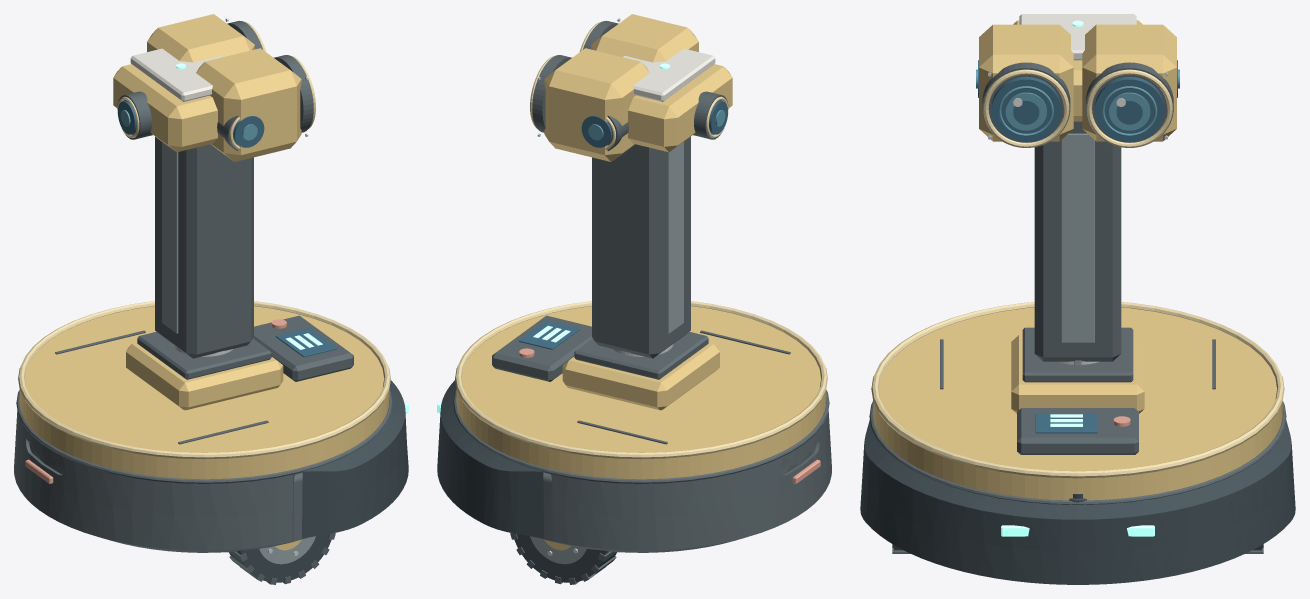
File: create3-rs01.glb
3 views of the same model, side by side, from view 1: azimuth 30°, elevation 25°; view 2: azimuth 150°, elevation 25°; view 3: azimuth 270°, elevation 25° (orthographic). The views are drawn at different scales.
Parts seen in each view (by area): view 1: Base_graphite, Base_ochre, CameraHead_ochre, Base_rubber, Base_gold_edge, Base_dark_alloy, CameraHead_graphite, CameraHead_ivory, WheelRight_rubber, CameraHead_glass, Base_glass, WheelRight_dark_alloy (+2 smaller); view 2: Base_graphite, Base_ochre, CameraHead_ochre, Base_rubber, Base_gold_edge, Base_dark_alloy, CameraHead_graphite, CameraHead_ivory, WheelLeft_rubber, CameraHead_glass, Base_glass, WheelLeft_dark_alloy (+2 smaller); view 3: Base_ochre, Base_rubber, Base_graphite, CameraHead_ochre, Base_dark_alloy, Base_gold_edge, CameraHead_glass, CameraHead_gold_edge, CameraHead_graphite, CameraHead_lens_blue, CameraHead_ivory, Base_glass (+1 smaller).
Boxes of the visible parts, left/top/right/bottom form: Base_graphite: left=14, top=137, right=392, bottom=552; Base_ochre: left=19, top=306, right=389, bottom=479; CameraHead_ochre: left=113, top=14, right=301, bottom=161; Base_rubber: left=302, top=380, right=408, bottom=538; Base_gold_edge: left=18, top=301, right=390, bottom=459; Base_dark_alloy: left=162, top=142, right=178, bottom=333; CameraHead_graphite: left=117, top=20, right=313, bottom=150; CameraHead_ivory: left=130, top=48, right=222, bottom=101; WheelRight_rubber: left=229, top=534, right=331, bottom=582; CameraHead_glass: left=118, top=101, right=264, bottom=147; Base_glass: left=275, top=328, right=337, bottom=357; WheelRight_dark_alloy: left=259, top=536, right=315, bottom=564; Base_graphite: left=453, top=137, right=831, bottom=552; Base_ochre: left=456, top=306, right=826, bottom=479; CameraHead_ochre: left=544, top=14, right=732, bottom=161; Base_rubber: left=437, top=380, right=543, bottom=538; Base_gold_edge: left=455, top=301, right=827, bottom=459; Base_dark_alloy: left=667, top=142, right=683, bottom=333; CameraHead_graphite: left=532, top=20, right=728, bottom=150; CameraHead_ivory: left=623, top=48, right=715, bottom=101; WheelLeft_rubber: left=514, top=534, right=616, bottom=582; CameraHead_glass: left=581, top=101, right=727, bottom=147; Base_glass: left=519, top=320, right=580, bottom=349; WheelLeft_dark_alloy: left=530, top=536, right=586, bottom=564; Base_ochre: left=873, top=307, right=1282, bottom=500; Base_rubber: left=860, top=419, right=1295, bottom=584; Base_graphite: left=869, top=121, right=1286, bottom=504; CameraHead_ochre: left=979, top=20, right=1176, bottom=141; Base_dark_alloy: left=1061, top=133, right=1094, bottom=342; Base_gold_edge: left=871, top=302, right=1284, bottom=478; CameraHead_glass: left=978, top=60, right=1177, bottom=142; CameraHead_gold_edge: left=983, top=69, right=1172, bottom=147; CameraHead_graphite: left=982, top=62, right=1173, bottom=143; CameraHead_lens_blue: left=976, top=69, right=1179, bottom=136; CameraHead_ivory: left=1013, top=14, right=1136, bottom=106; Base_glass: left=1035, top=413, right=1097, bottom=433.
Size of the model in its own units: 0.4691 by 0.61 by 0.4634.
